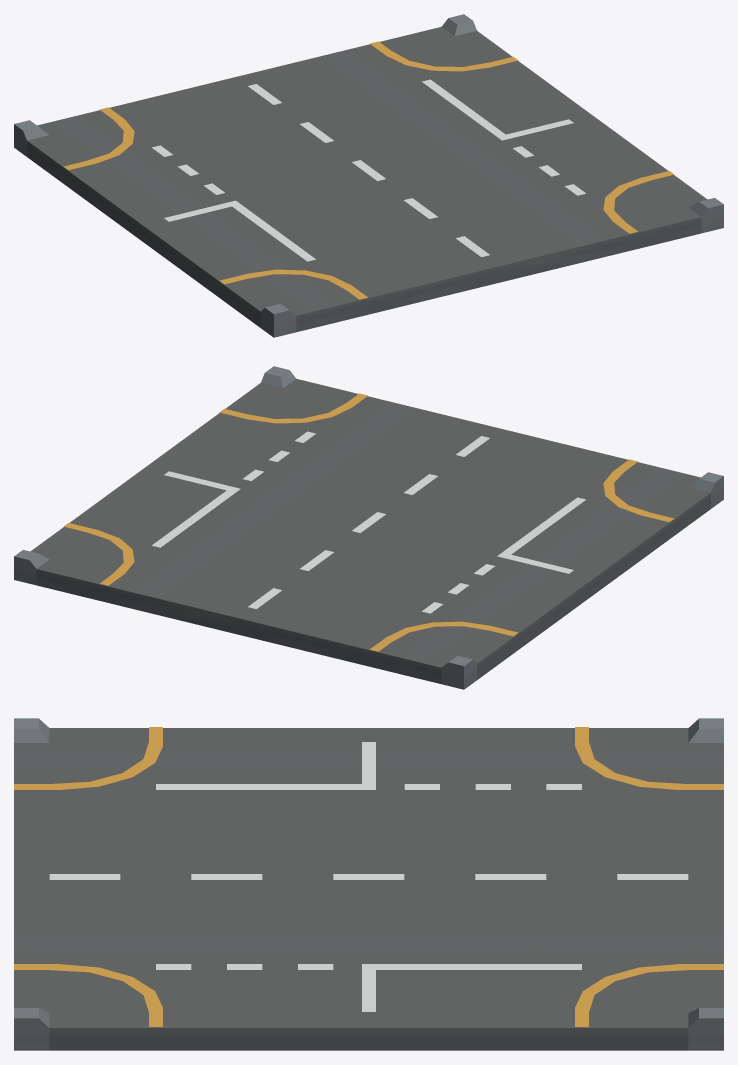
The model's file is road_junction.gltf.
The picture shows the model from 3 angles, top to bottom: view 1: azimuth 30°, elevation 25°; view 2: azimuth 150°, elevation 25°; view 3: azimuth 270°, elevation 25°; orthographic projection. The views are drawn at different scales.
Parts seen in each view (by area): view 1: road_junction; view 2: road_junction; view 3: road_junction.
Boxes of the visible parts, x1,y1,x2,y2 form: road_junction: (14, 14, 723, 337); road_junction: (14, 366, 723, 689); road_junction: (14, 718, 723, 1050).
Size of the model in its own units: 2 by 0.1 by 2.
1 material, 1 textured.
